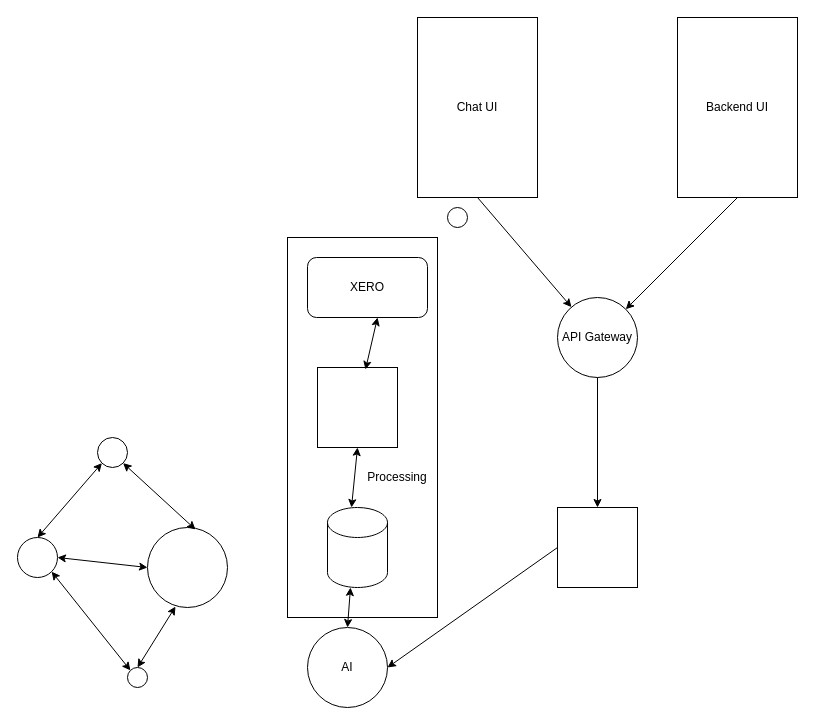
Some shapes in this 815 by 725 pixel diagram are drawn without their labels. Here are the shapes that lost their labels. From the top down, the centre of each, then its label:
At [357,407]: "API Connector".
At [357,547]: "NEO 4J".
At [597,547]: "SERVER".
